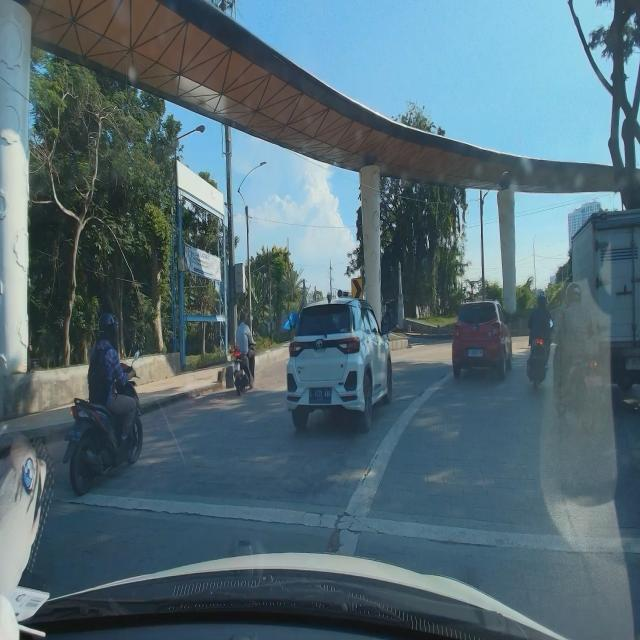car: (285, 294, 393, 435), (452, 299, 512, 379)
license-plate: (308, 388, 332, 403), (468, 349, 483, 357)
